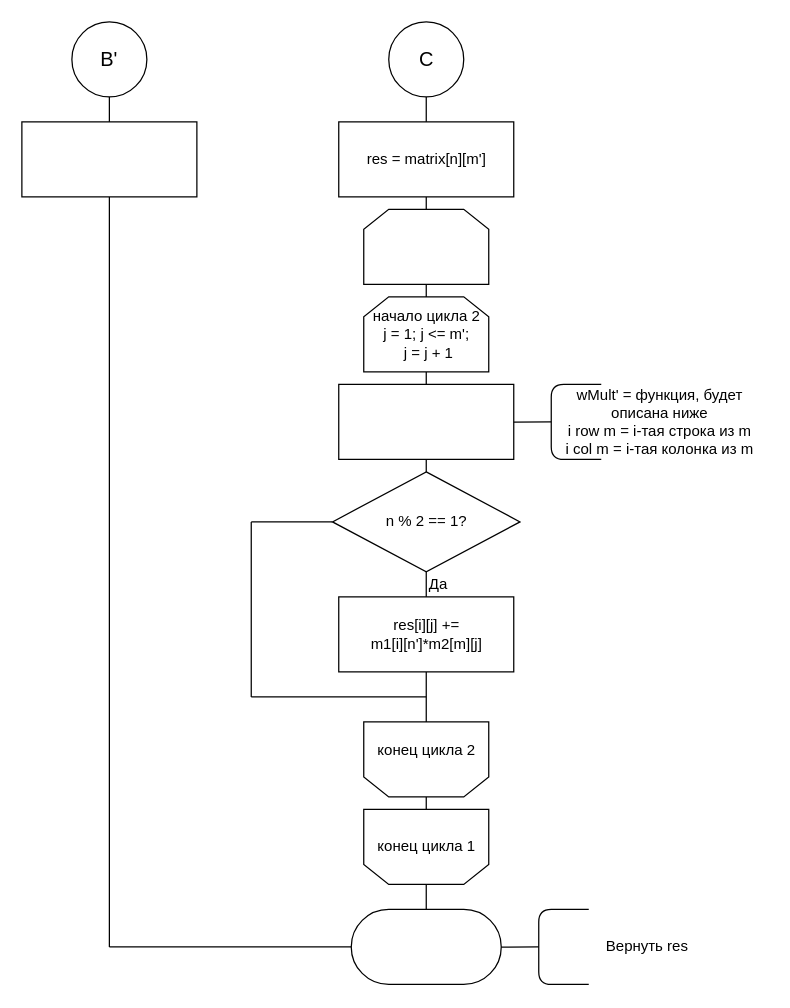
Some shapes in this 790 by 1008 pixel diagram are drawn without their labels. Each missing label, with the centre of its shape:
"res = error" goes at point 109,159.
"res[i][j] = m1PreCalc[i] + m2PreCalc[j] + wMult' (i row mtr1) (j col mtr2)" goes at point 426,421.
"Начало" goes at point 425,946.
"начало цикла 1 i = 1; i <=n; i = i+1" goes at point 425,246.
